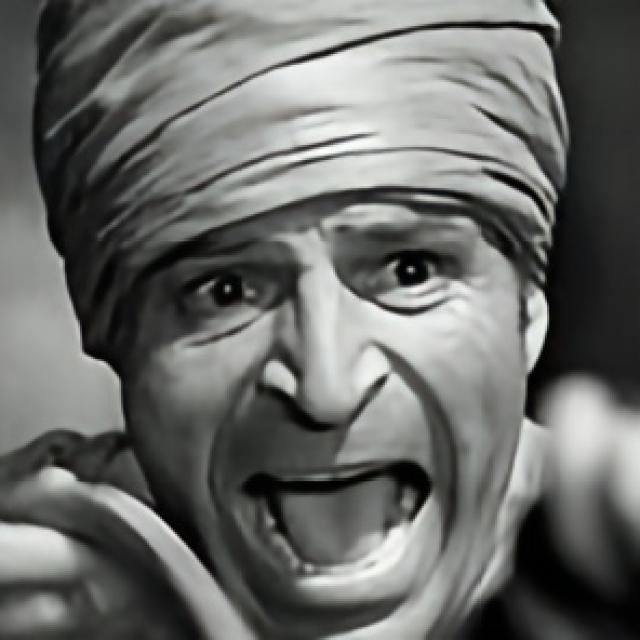fear: (115, 177, 530, 640)
